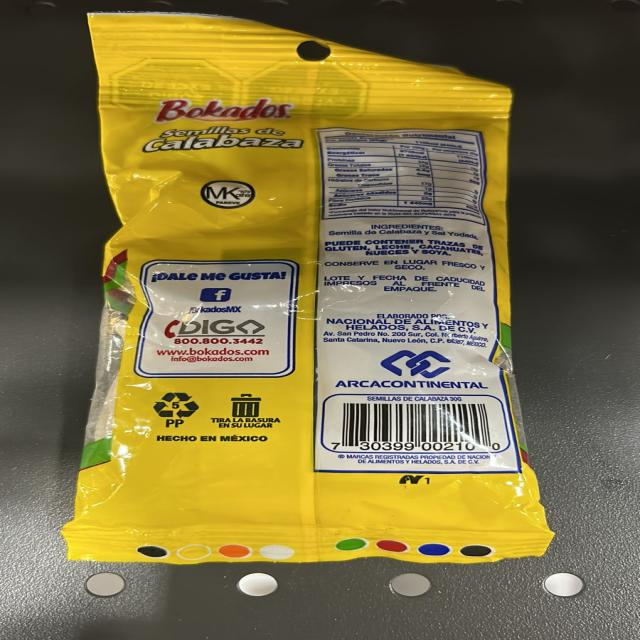productoAtras: (108, 27, 530, 563)
